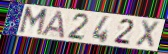2: (66, 13, 92, 42), (111, 18, 136, 47)
4: (91, 14, 109, 45)
A: (40, 10, 66, 39)
M: (17, 6, 50, 38)
X: (133, 19, 162, 50)
